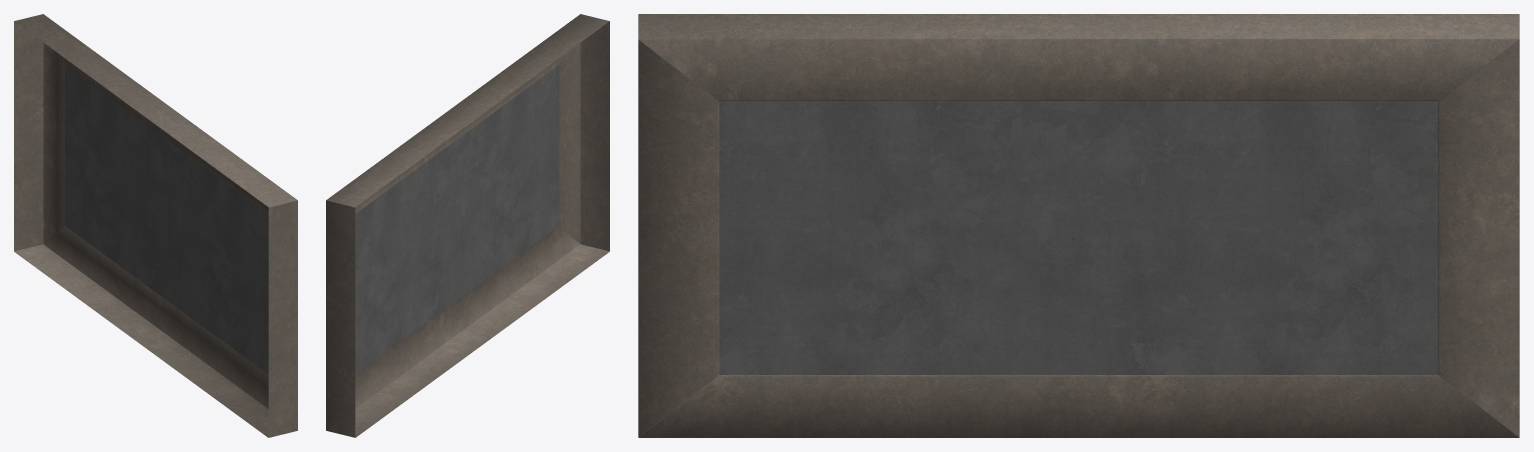
File: cP_Pathway04_Straight02_001.dae
The picture shows the model from 3 angles, left to right: view 1: azimuth 30°, elevation 25°; view 2: azimuth 150°, elevation 25°; view 3: azimuth 270°, elevation 25°; orthographic projection. The views are drawn at different scales.
Parts seen in each view (by area): view 1: cP_Pathway04_Straight02.002; view 2: cP_Pathway04_Straight02.002; view 3: cP_Pathway04_Straight02.002.
Boxes of the visible parts, x1,y1,x2,y2 form: cP_Pathway04_Straight02.002: (14,14,297,437); cP_Pathway04_Straight02.002: (326,14,609,437); cP_Pathway04_Straight02.002: (638,14,1519,437).
Size of the model in its own units: 0.5349 by 8 by 4.
